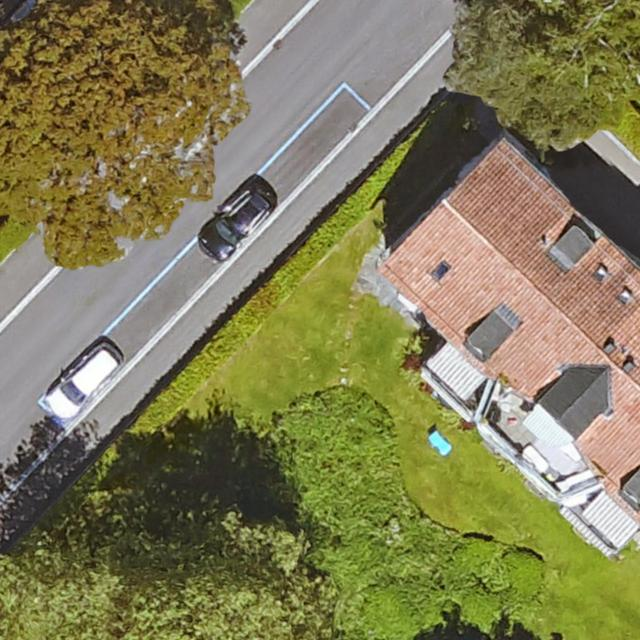tree: (0, 0, 239, 261), (452, 0, 640, 152), (143, 513, 338, 640), (0, 498, 157, 640)
